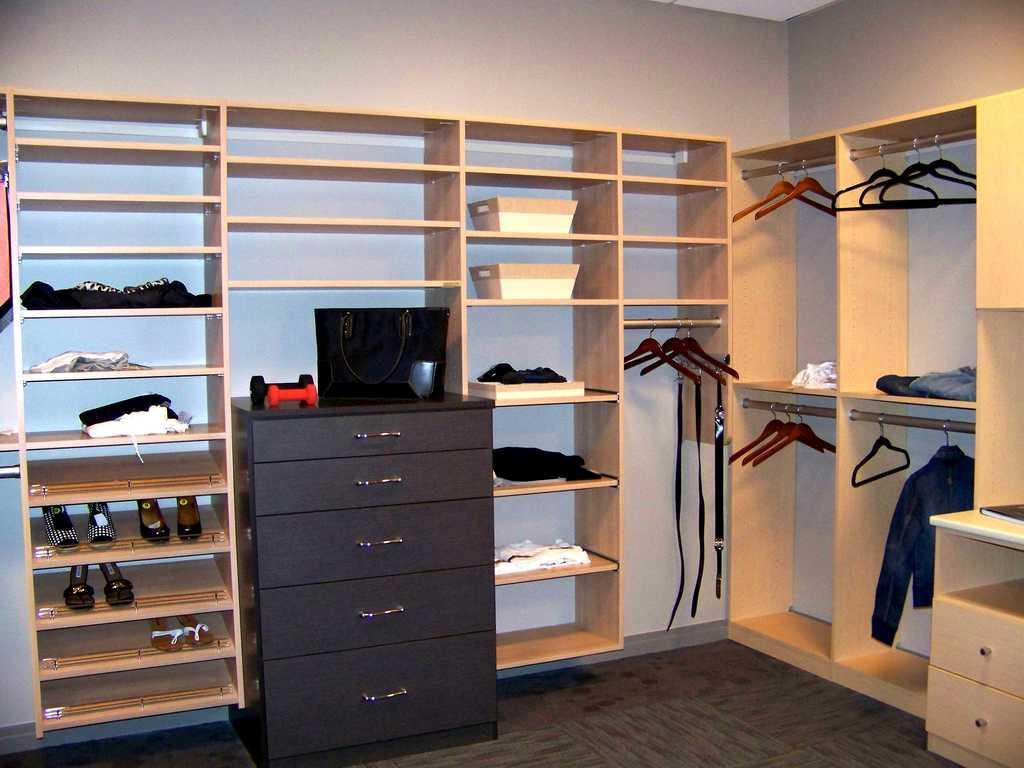cabinet_door: (284, 650, 495, 721), (282, 566, 482, 639), (278, 506, 488, 566), (267, 458, 488, 506), (927, 669, 1024, 754), (932, 606, 1024, 690), (262, 424, 490, 454)
handle: (350, 422, 408, 452), (350, 528, 408, 556), (358, 468, 406, 498), (362, 680, 412, 706), (358, 602, 408, 626), (966, 708, 990, 737), (974, 636, 994, 664)
